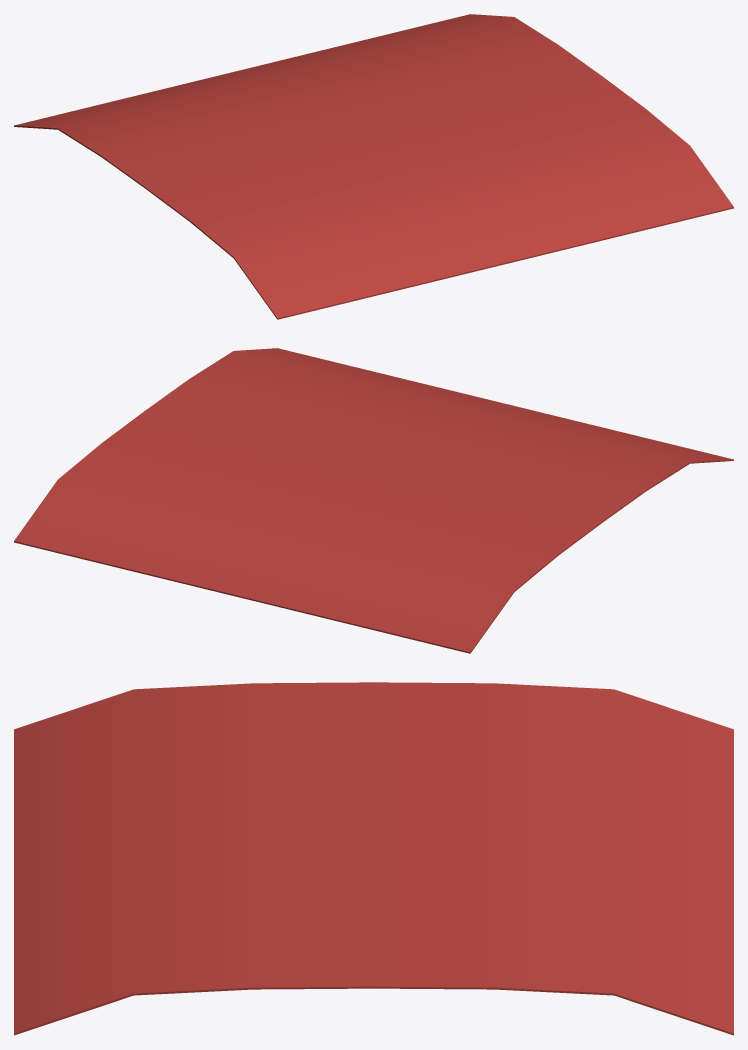
Rendered from valanced_tip_lod1.glb.
3 views of the same model, one above another, from view 1: azimuth 30°, elevation 25°; view 2: azimuth 150°, elevation 25°; view 3: azimuth 270°, elevation 25° (orthographic). The views are drawn at different scales.
Visible parts, largest first — view 1: valanced_tip_lod1; view 2: valanced_tip_lod1; view 3: valanced_tip_lod1.
Boxes of the visible parts, x1,y1,x2,y2 form: valanced_tip_lod1: [14, 14, 733, 319]; valanced_tip_lod1: [14, 348, 733, 653]; valanced_tip_lod1: [14, 682, 733, 1035].
Bounding box in the file's own units: 1 × 0.075 × 1.
